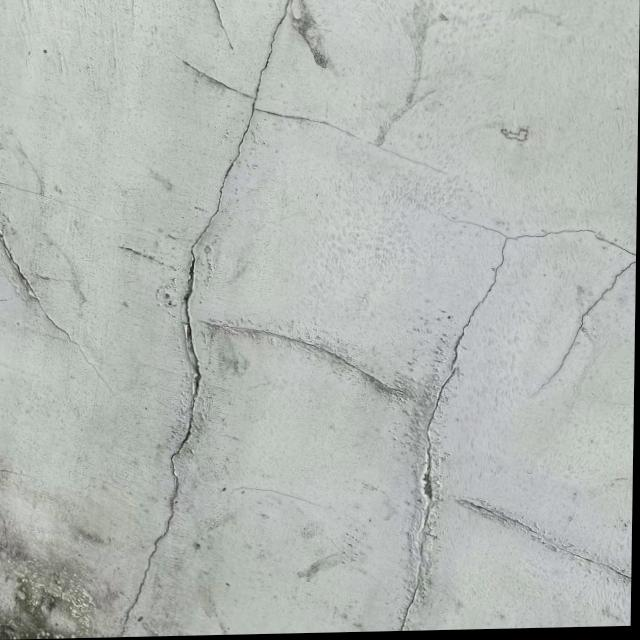crack: (111, 0, 388, 633), (391, 205, 631, 621), (0, 224, 117, 394), (200, 313, 411, 398), (451, 493, 627, 591)
mildew: (0, 501, 118, 640)
